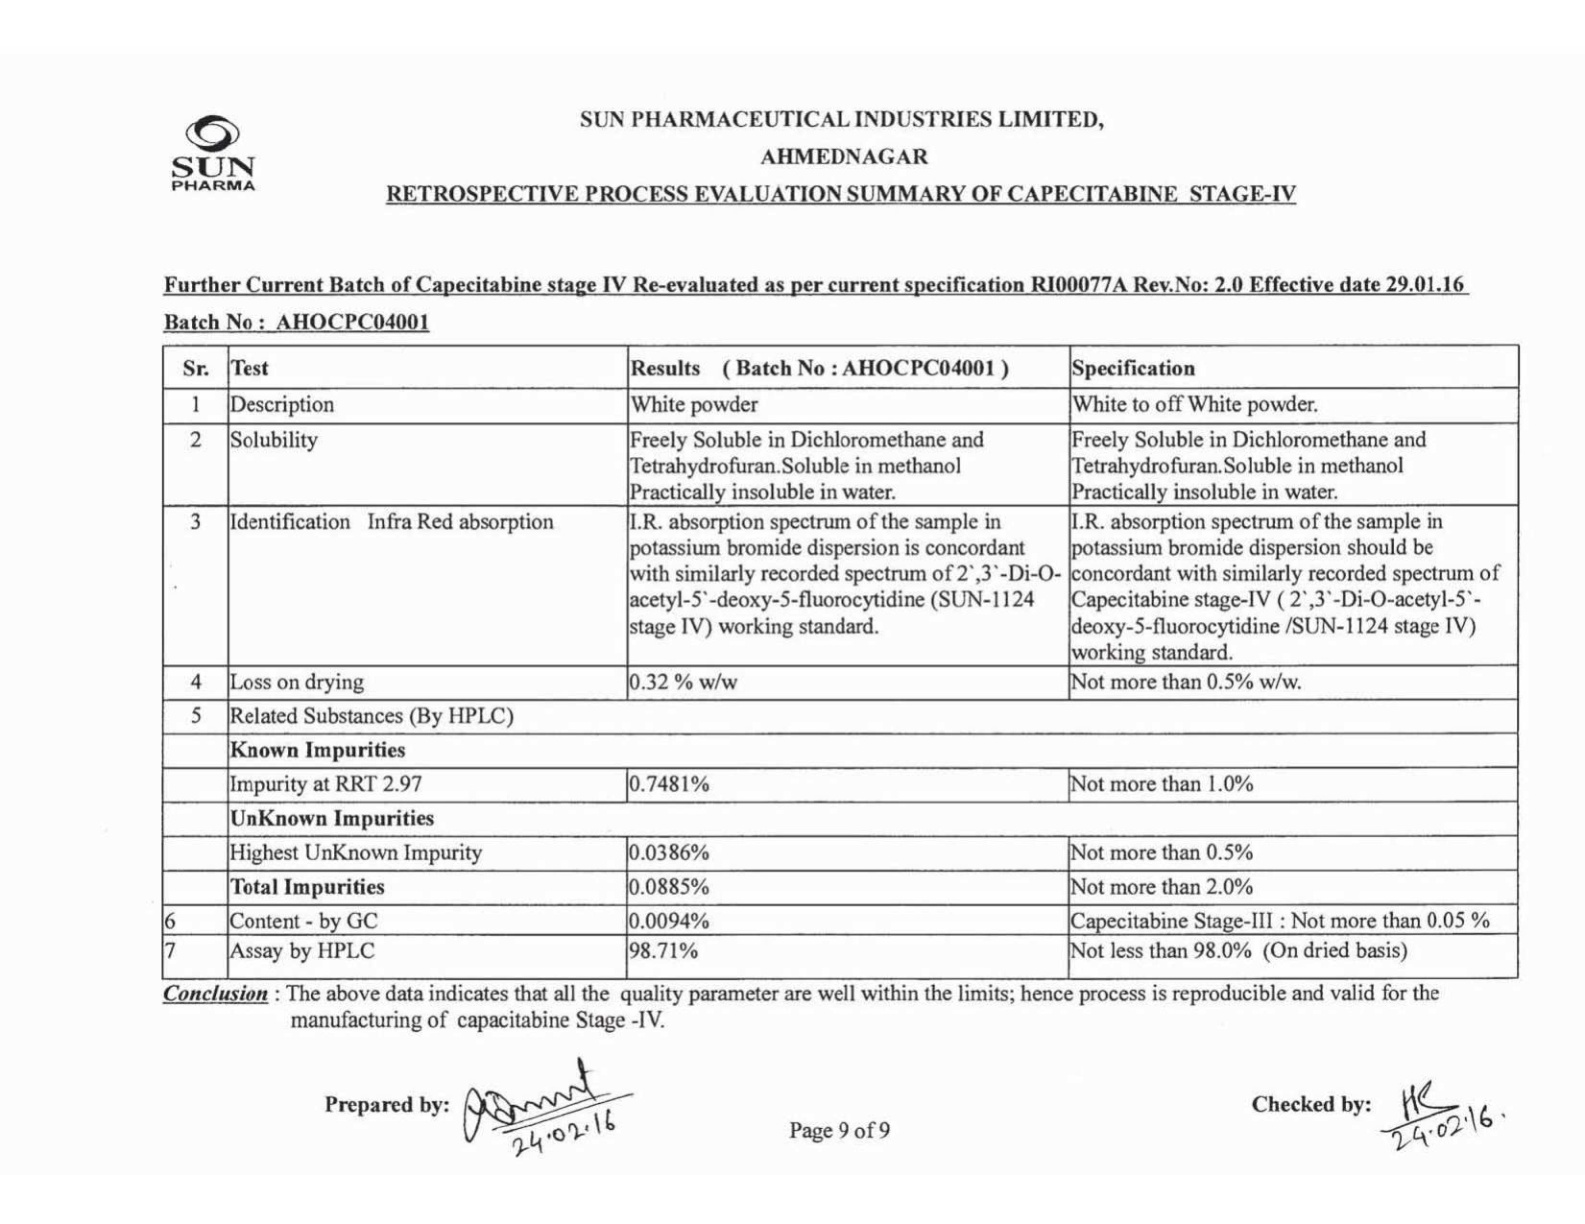merged_cells: (161, 342, 1519, 980)
